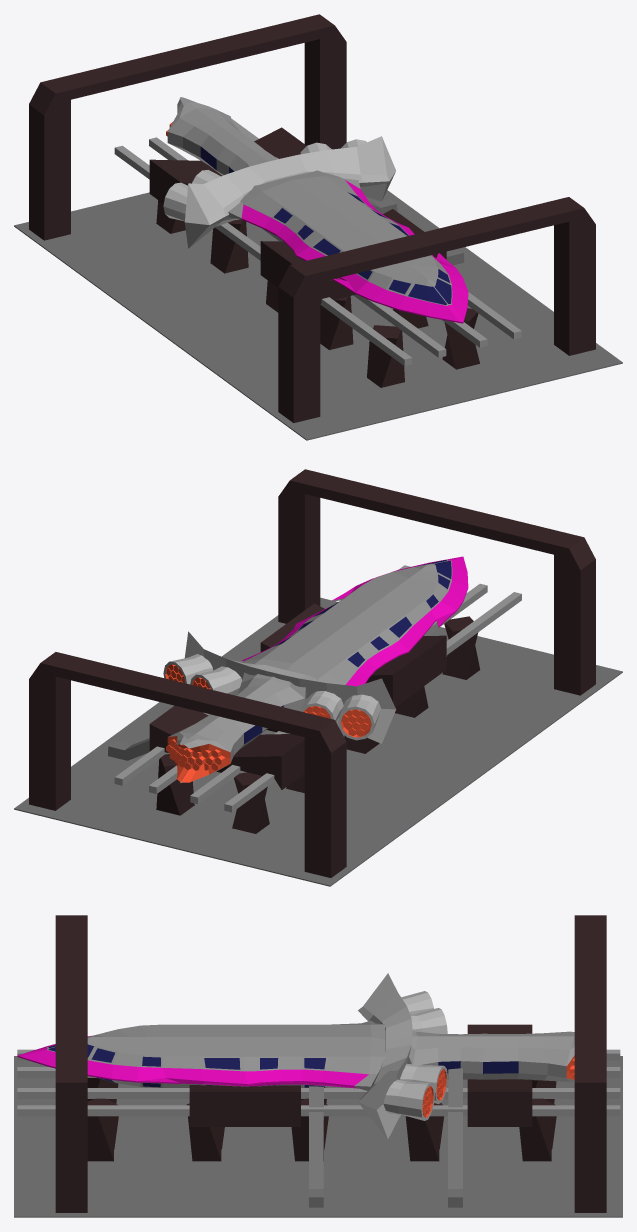
Rendered from Durandal.fbx.
3 renders of one model, top to bottom at view 1: azimuth 30°, elevation 25°; view 2: azimuth 150°, elevation 25°; view 3: azimuth 270°, elevation 25°, orthographic. The views are drawn at different scales.
Parts seen in each view (by area): view 1: Holders, Floor, Edge, EnginePart, Rukoyat; view 2: Holders, Floor, Edge, EnginePart, Rukoyat, Traps; view 3: Floor, Holders, Edge, EnginePart, Rukoyat, Traps.
Part boxes in pixels (left/top/right/bottom): Holders: left=29, top=14, right=595, bottom=422; Floor: left=14, top=190, right=622, bottom=440; Edge: left=228, top=170, right=468, bottom=323; EnginePart: left=163, top=136, right=395, bottom=248; Rukoyat: left=166, top=97, right=278, bottom=175; Holders: left=29, top=469, right=595, bottom=877; Floor: left=14, top=597, right=622, bottom=886; Edge: left=237, top=556, right=468, bottom=686; EnginePart: left=163, top=631, right=396, bottom=743; Rukoyat: left=166, top=672, right=306, bottom=782; Traps: left=108, top=714, right=209, bottom=760; Floor: left=14, top=1056, right=622, bottom=1217; Holders: left=17, top=915, right=620, bottom=1212; Edge: left=17, top=1020, right=386, bottom=1090; EnginePart: left=358, top=973, right=447, bottom=1138; Rukoyat: left=407, top=1030, right=574, bottom=1081; Traps: left=309, top=1068, right=462, bottom=1207.
Size of the model in its own units: 99.83 by 43.85 by 160.
